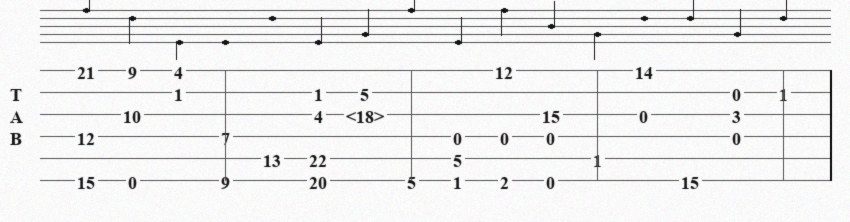0: (128, 172, 141, 188), (453, 128, 466, 144), (500, 128, 513, 144), (546, 172, 559, 188), (546, 128, 559, 144), (639, 106, 652, 122), (732, 128, 745, 144), (732, 84, 745, 100)
1: (174, 84, 187, 100), (314, 84, 327, 100), (453, 172, 466, 188), (593, 150, 606, 166), (779, 84, 792, 100)
10: (123, 106, 145, 122)
12: (77, 128, 99, 144), (495, 62, 517, 78)
13: (263, 150, 285, 166)
14: (635, 62, 657, 78)
15: (77, 172, 99, 188), (542, 106, 564, 122), (681, 172, 703, 188)
2: (500, 172, 513, 188)
20: (309, 172, 331, 188)
21: (77, 62, 99, 78)
22: (309, 150, 331, 166)
3: (732, 106, 745, 122)
4: (174, 62, 187, 78), (314, 106, 327, 122)
5: (360, 84, 373, 100), (407, 172, 420, 188), (453, 150, 466, 166)
7: (221, 128, 234, 144)
9: (128, 62, 141, 78), (221, 172, 234, 188)
harmonic: (346, 106, 388, 122)
